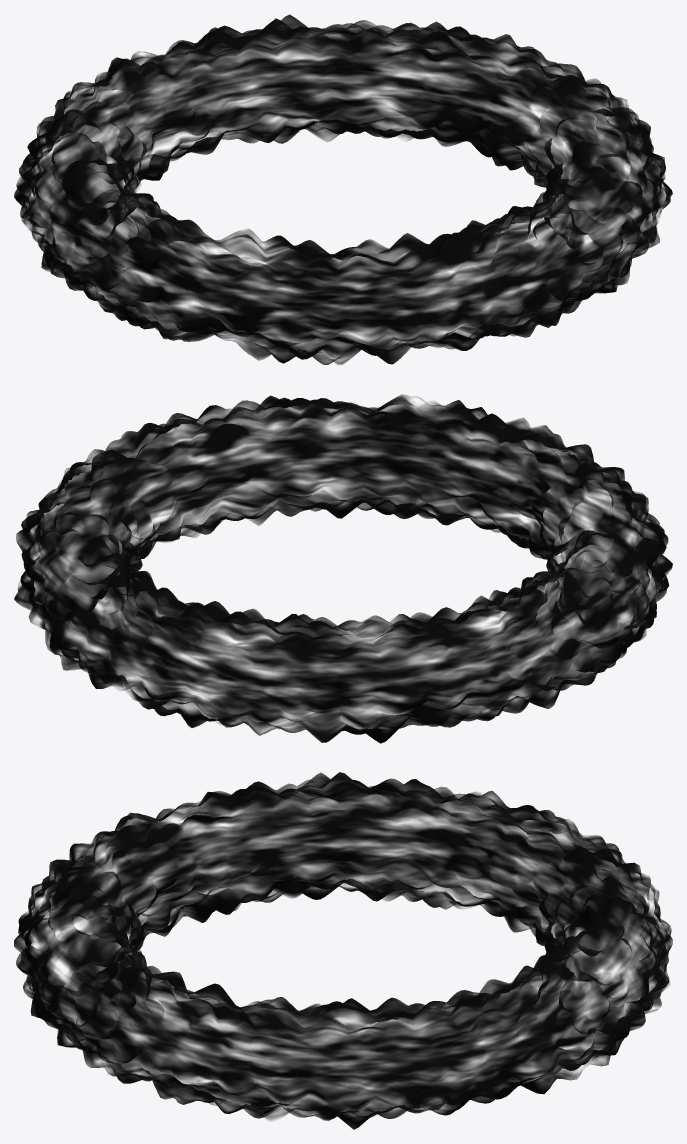
The model's file is cloud_fat_image_texture.glb.
3 views of the same model, one above another, from view 1: azimuth 30°, elevation 25°; view 2: azimuth 150°, elevation 25°; view 3: azimuth 270°, elevation 25° (orthographic).
Visible parts, largest first — view 1: cloud_fat; view 2: cloud_fat; view 3: cloud_fat.
Part boxes in pixels (x1,y1,x2,y2): cloud_fat: [14, 14, 672, 364]; cloud_fat: [14, 394, 672, 743]; cloud_fat: [14, 772, 672, 1129].
Size of the model in its own units: 13.82 by 2.78 by 13.78.
Materials: 1 (1 with a texture image).
